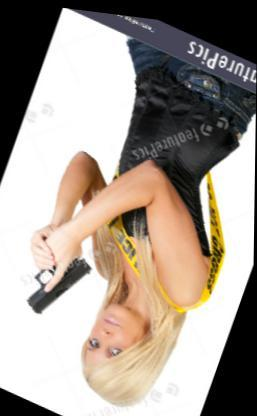pistol: (12, 228, 98, 330)
